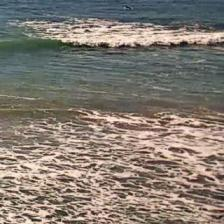surfer: (124, 6, 132, 10)
